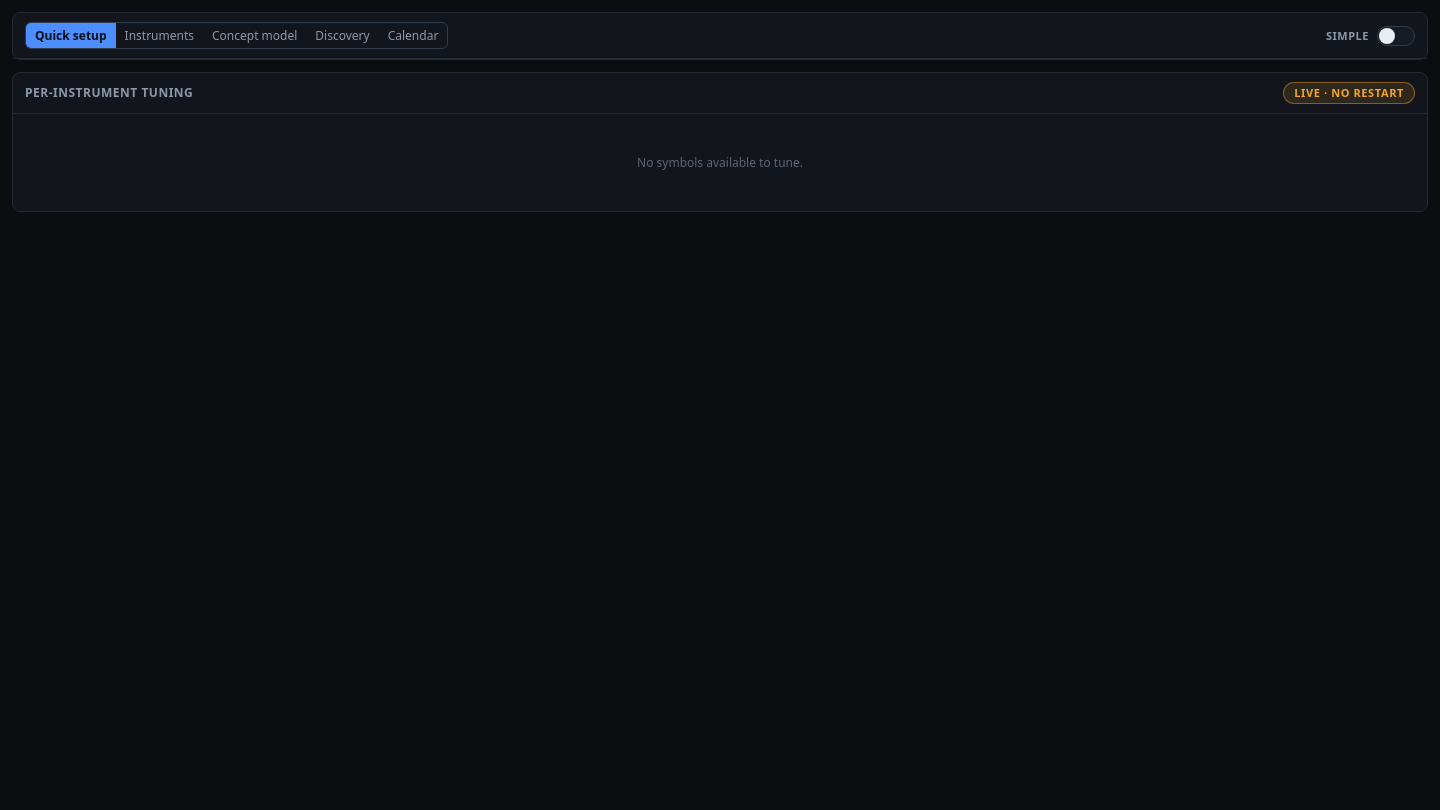
Test: SettingsPage › renders the read-only global concept settings (weights, risk, execution) on the Concept-model tab in Advanced mode
The image size is (1440, 810).
Click the switch named "advanced mode": (1396, 36) x1=1377 y1=26 x2=1415 y2=46
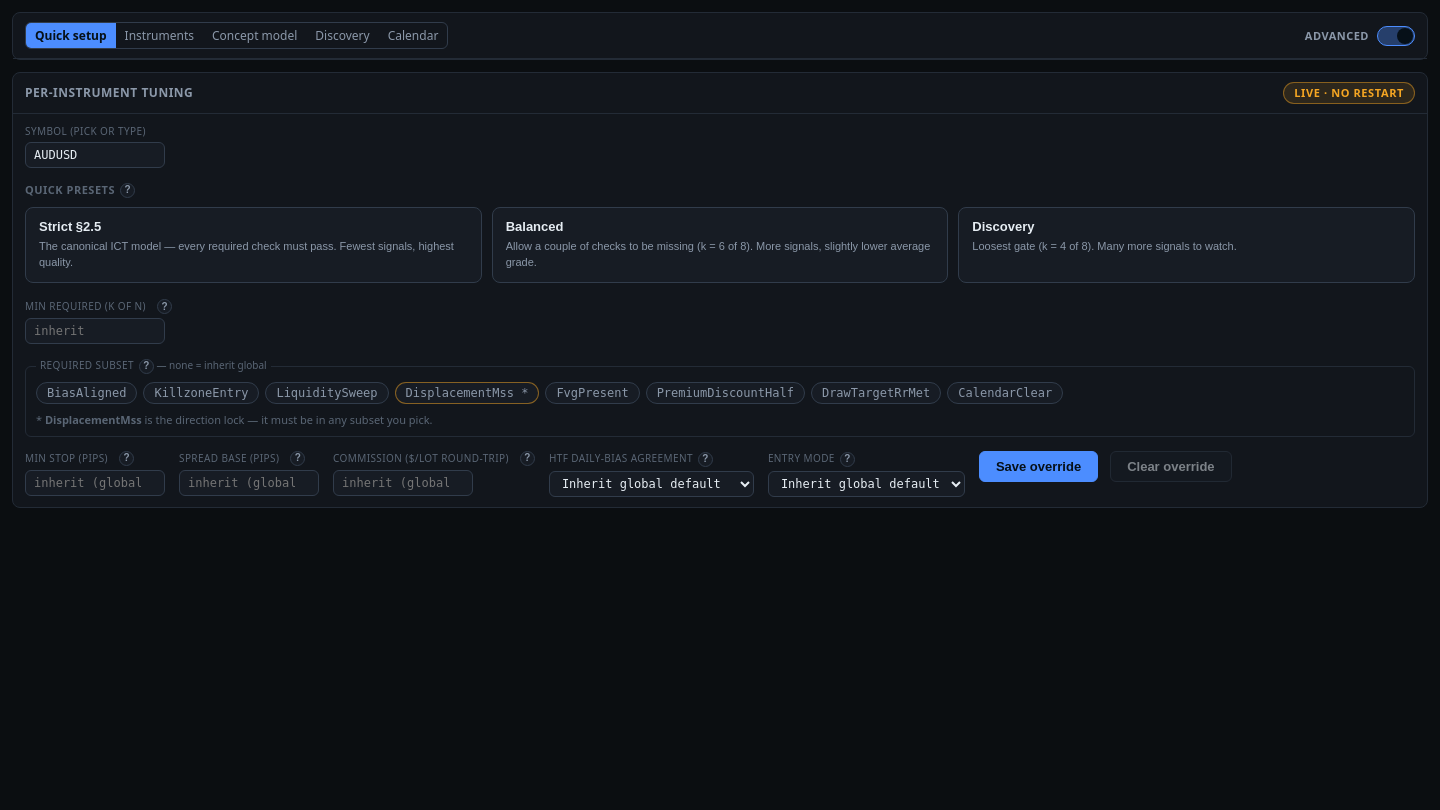
Click the tab "Concept model": (255, 36) x1=203 y1=23 x2=306 y2=48
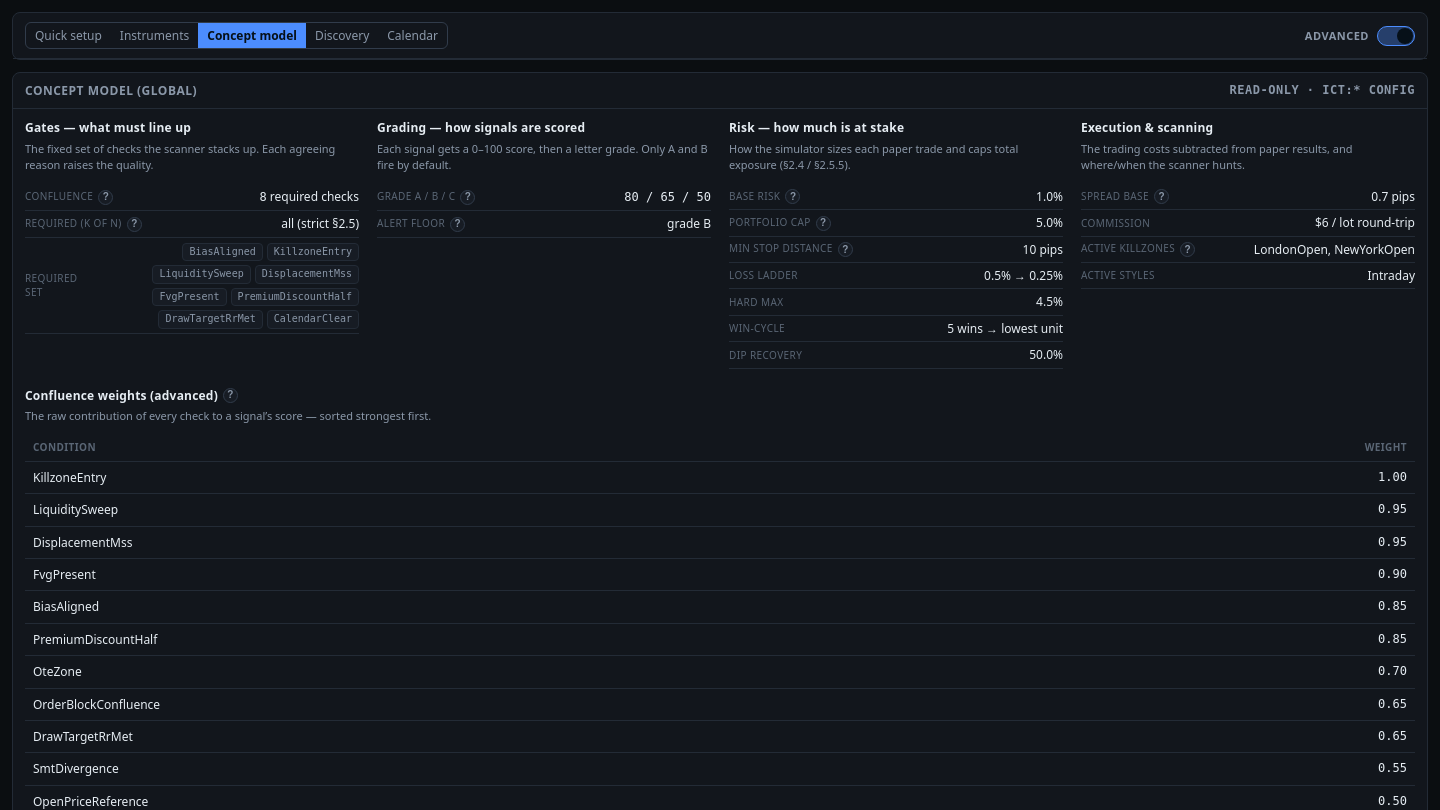
Expected: the heading "Confluence weights (advanced) ?" is shown, x1=25 y1=386 x2=238 y2=404
Expected: the table named "confluence weights" shows "KillzoneEntry", x1=33 y1=469 x2=106 y2=486
Expected: the table named "confluence weights" shows "1.00", x1=1378 y1=470 x2=1407 y2=484
